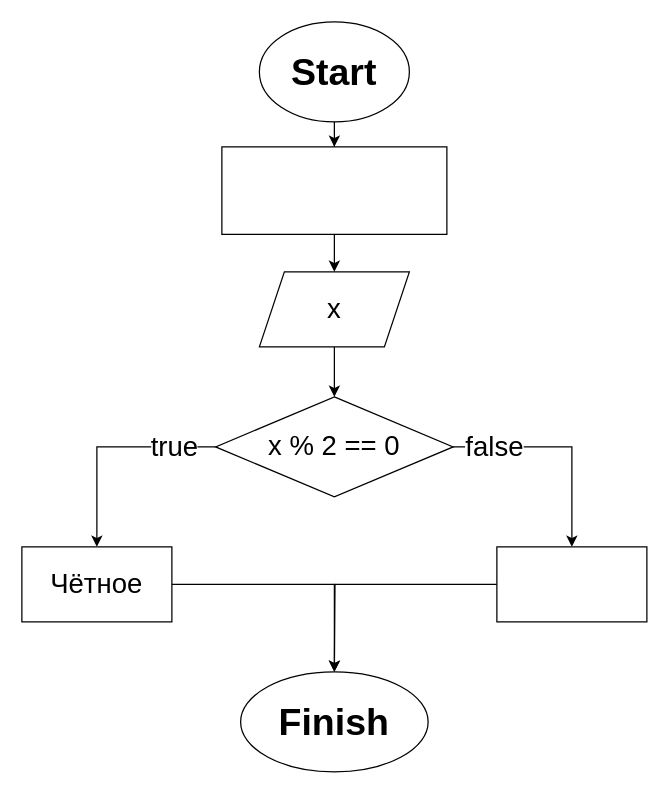
Some shapes in this 669 by 794 pixel diagram are drawn without their labels. Here are the shapes that lost their labels. From the top down, the centre of each, then its label:
At point 334,190: "x = 0".
At point 571,584: "Нечётное".
